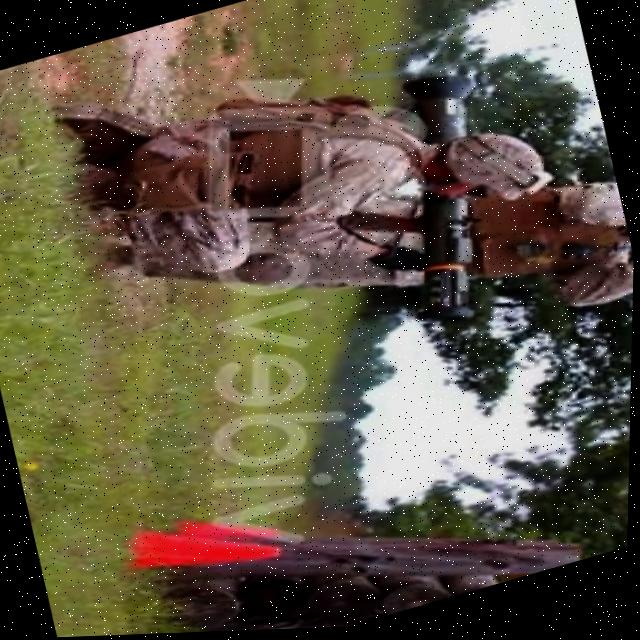rocket: (342, 57, 536, 344)
